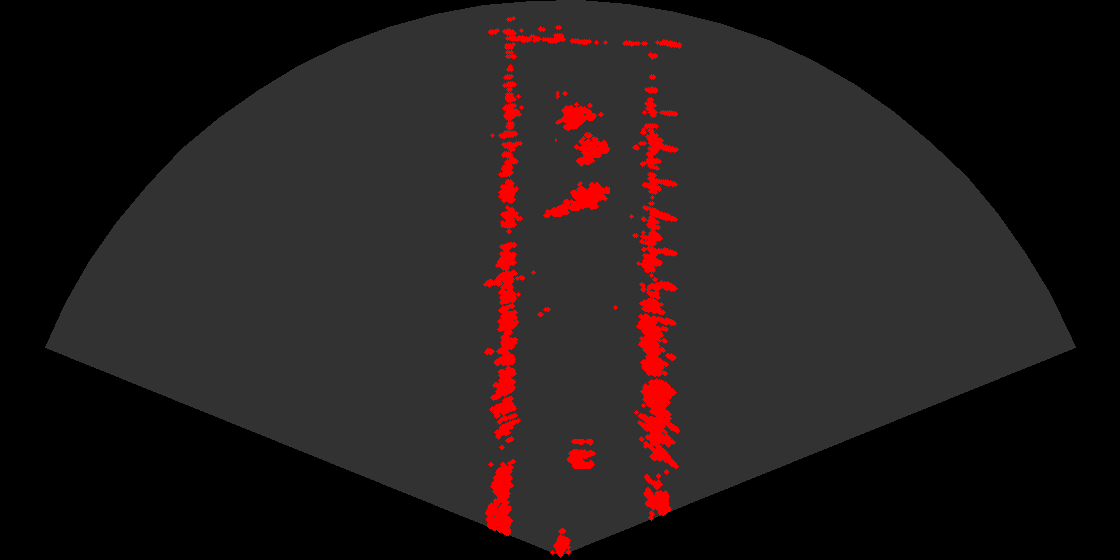ball: (547, 431, 607, 472)
cage: (555, 91, 618, 175)
frogman: (542, 175, 610, 222)
